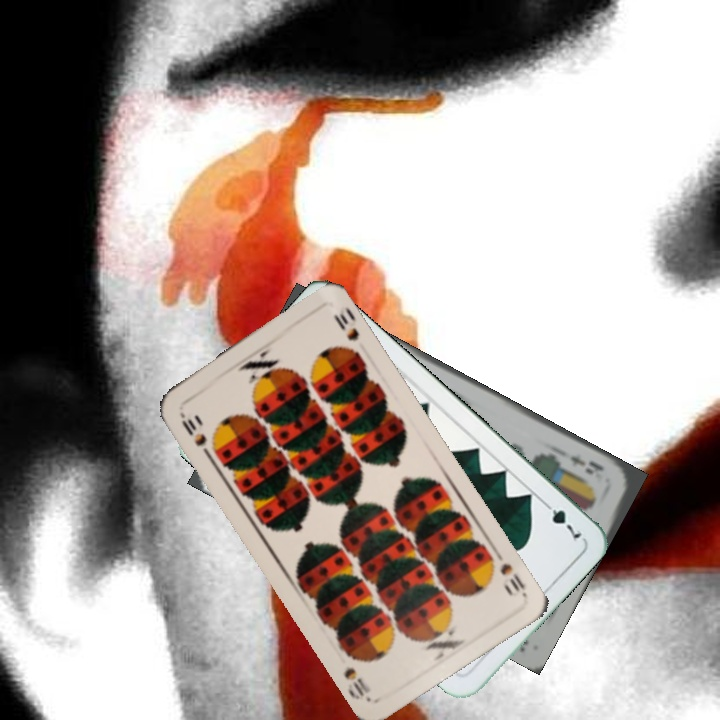EK: (566, 450, 606, 478)
G7: (538, 496, 584, 545)
S10: (484, 546, 529, 599), (175, 408, 210, 450)
